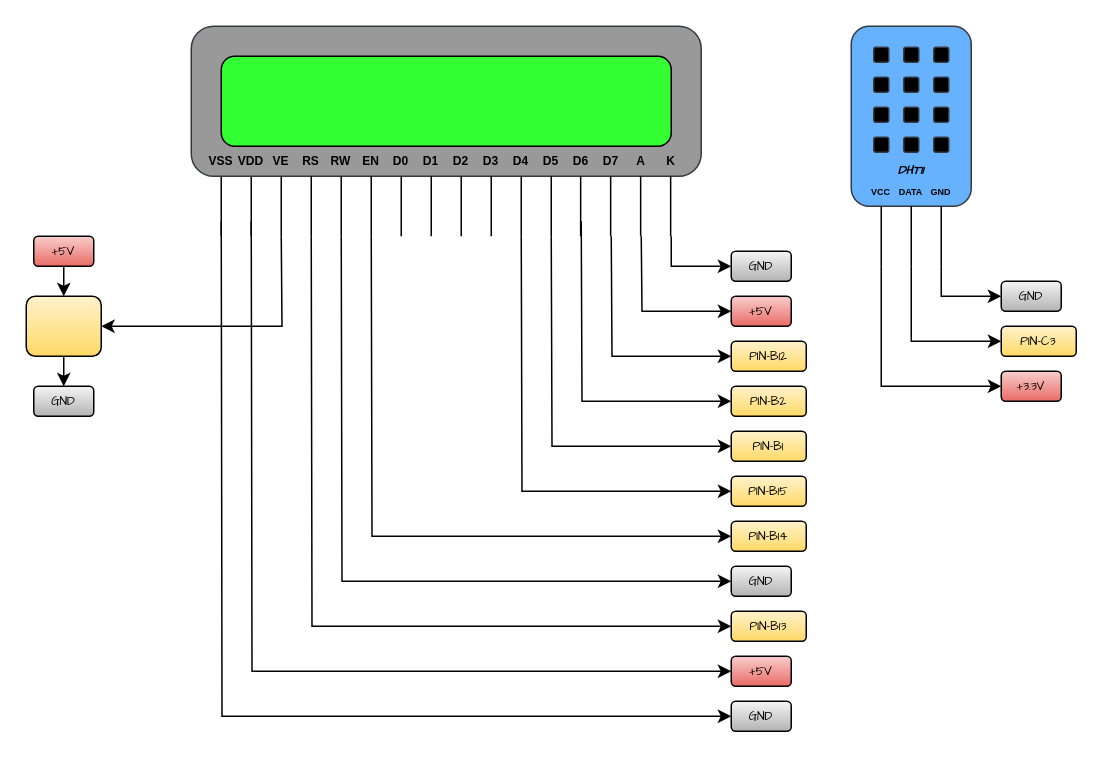
This 1103x758 diagram has some shape labels left out. Each missing label, with the centre of its shape:
16x2 LCD: point (445, 100)
POT: point (63, 325)
